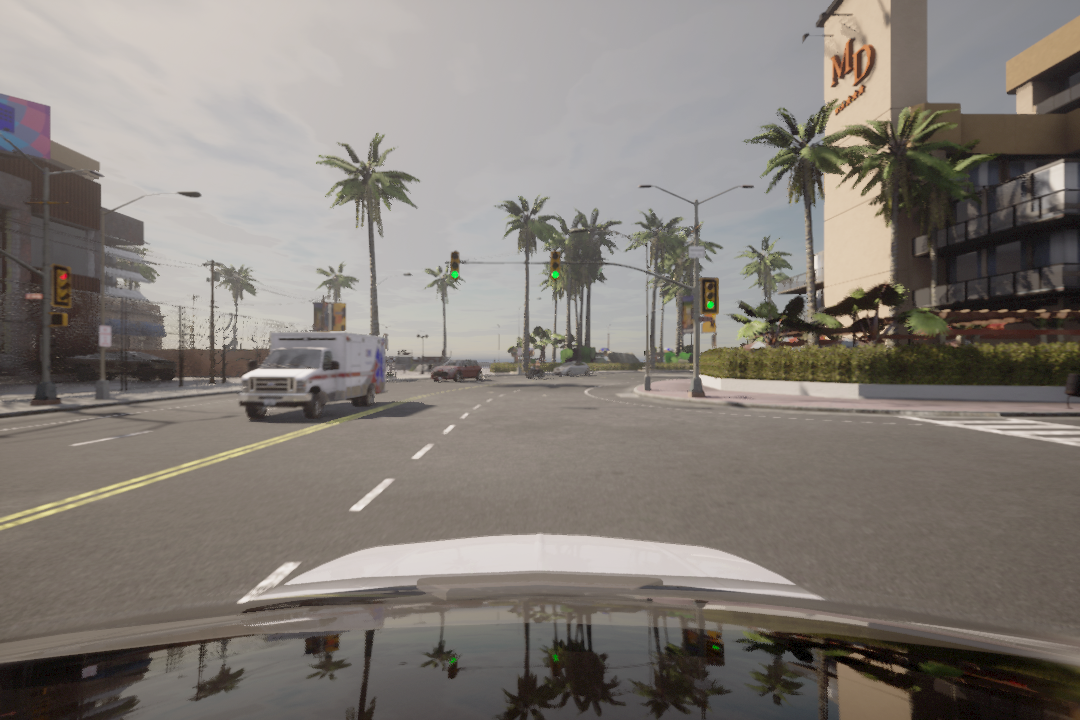TrafficLight: (52, 264, 70, 307), (702, 278, 720, 313), (448, 253, 462, 281), (551, 251, 559, 281)
